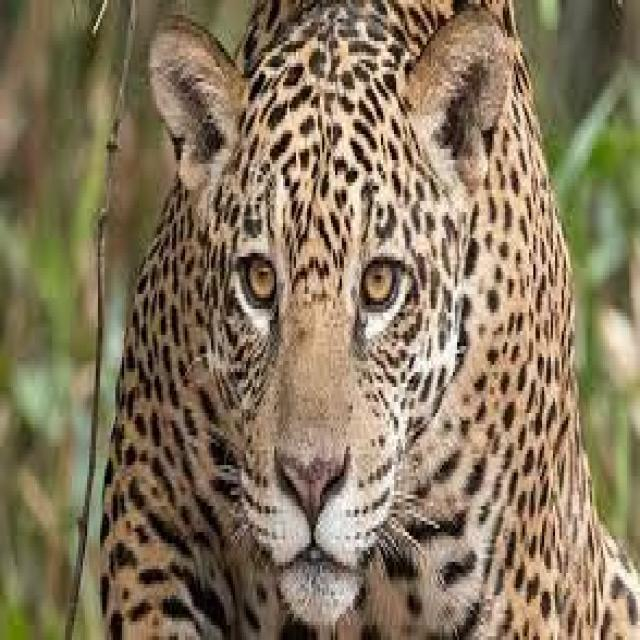Jaguar: (100, 3, 640, 640)
